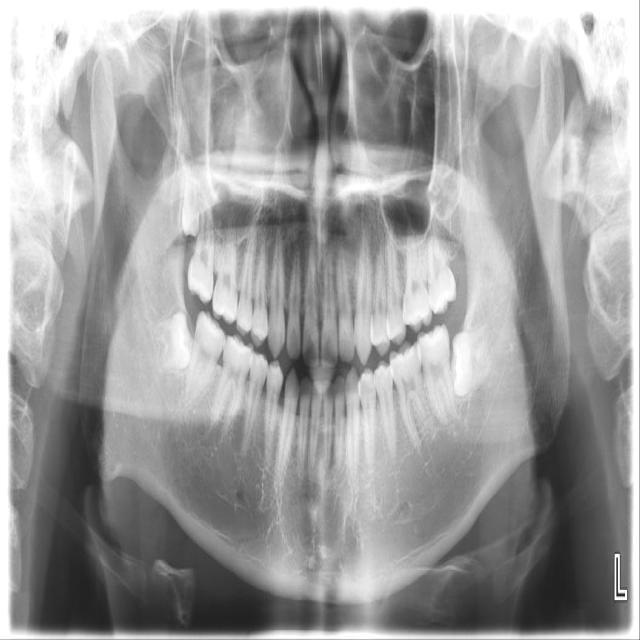impacted tooth: (451, 321, 498, 397), (148, 307, 193, 371), (180, 155, 203, 237)
